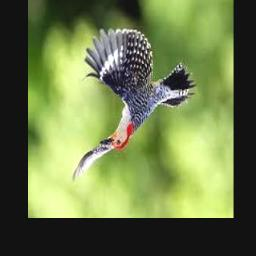Woodpecker: (72, 29, 195, 184)
